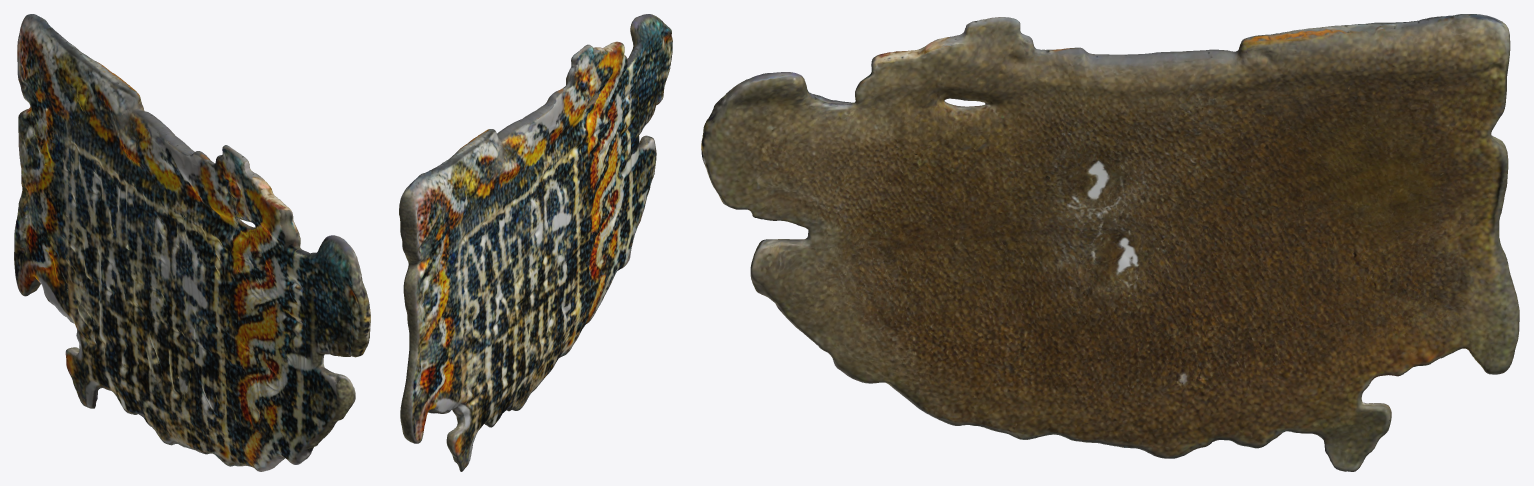
File: primary-compressed.glb
3 renders of one model, left to right at view 1: azimuth 30°, elevation 25°; view 2: azimuth 150°, elevation 25°; view 3: azimuth 270°, elevation 25°, orthographic. The views are drawn at different scales.
Size of the model in its own units: 0.1758 by 1.24 by 2.
1 material, 1 textured.
